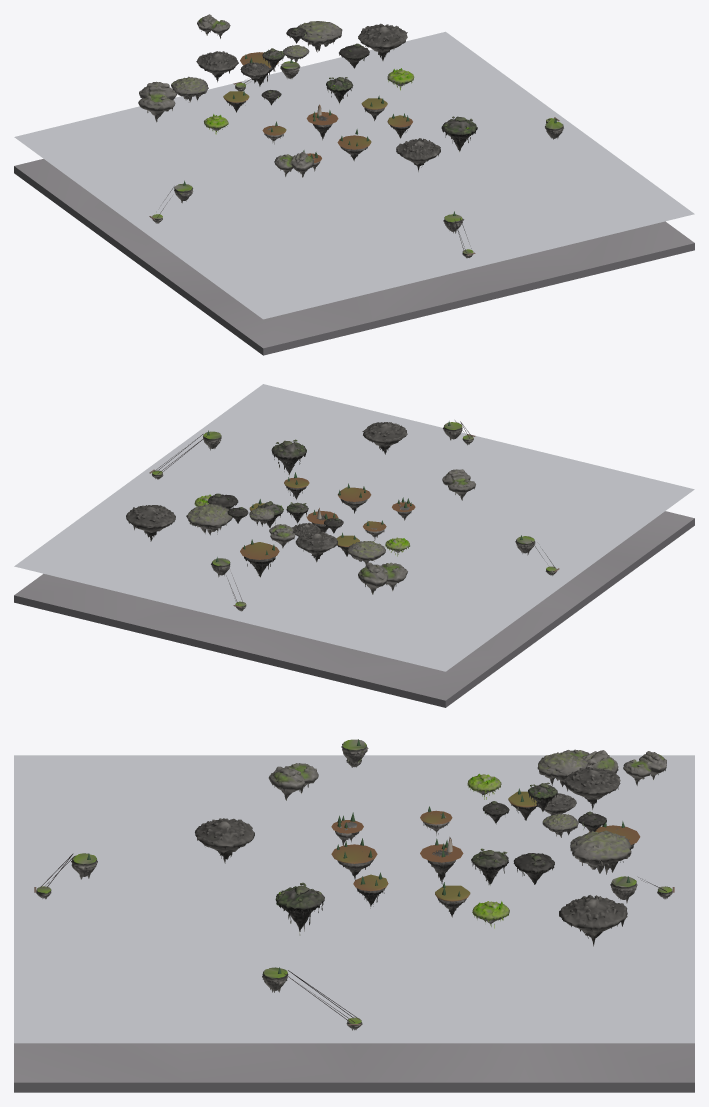
The model's file is near.glb.
The picture shows the model from 3 angles, top to bottom: view 1: azimuth 30°, elevation 25°; view 2: azimuth 150°, elevation 25°; view 3: azimuth 270°, elevation 25°; orthographic projection. The views are drawn at different scales.
Visible parts, largest first — view 1: near-placeholder; view 2: near-placeholder; view 3: near-placeholder.
Boxes of the visible parts, x1,y1,x2,y2 form: near-placeholder: [14, 14, 694, 355]; near-placeholder: [14, 384, 694, 707]; near-placeholder: [14, 739, 694, 1092].
Bounding box in the file's own units: 500 × 138 × 500.
